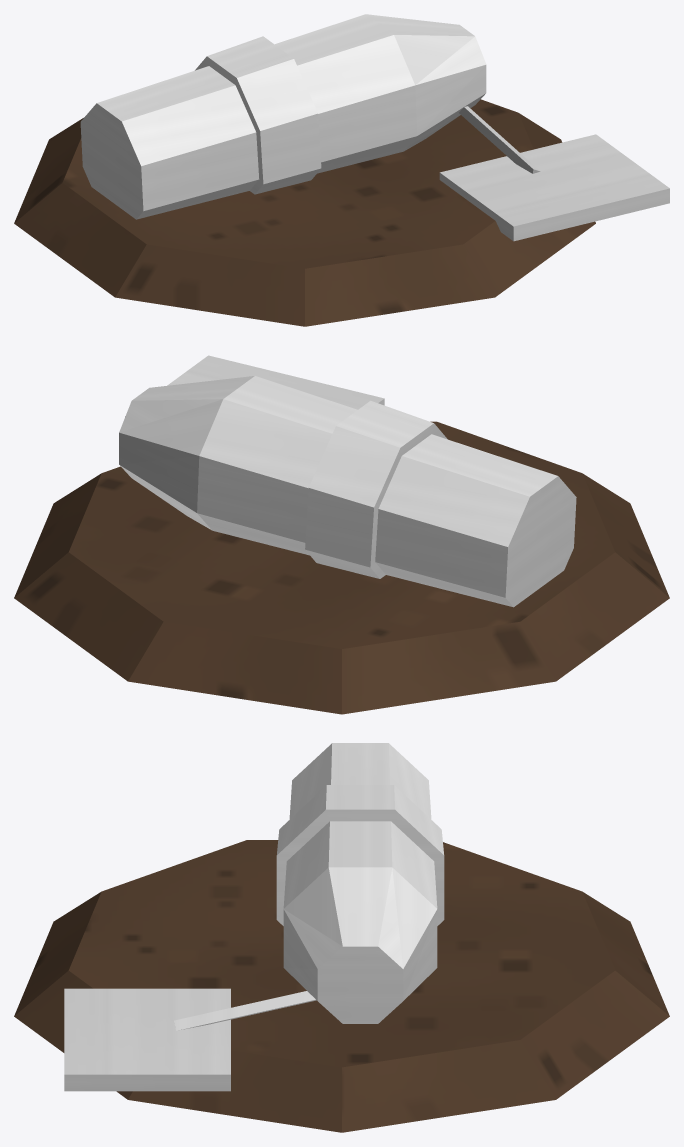
Rendered from ied_deadlife.obj.
3 views of the same model, one above another, from view 1: azimuth 30°, elevation 25°; view 2: azimuth 150°, elevation 25°; view 3: azimuth 270°, elevation 25° (orthographic). The views are drawn at different scales.
Visible parts, largest first — view 1: source_component_009, source_component_062, source_component_006, source_component_005, source_component_004, source_component_010, source_component_011, source_component_024, source_component_025, source_component_042, source_component_007, source_component_012 (+21 smaller); view 2: source_component_009, source_component_003, source_component_002, source_component_001, source_component_004, source_component_014, source_component_015, source_component_016, source_component_017, source_component_042, source_component_012, source_component_013 (+18 smaller); view 3: source_component_009, source_component_062, source_component_000, source_component_001, source_component_008, source_component_043, source_component_061, source_component_002, source_component_006, source_component_066, source_component_012, source_component_029 (+23 smaller).
Part boxes in pixels (bbox=[...]): source_component_009: bbox=[62, 99, 533, 268]; source_component_062: bbox=[440, 134, 669, 226]; source_component_006: bbox=[305, 244, 494, 326]; source_component_005: bbox=[115, 244, 304, 326]; source_component_004: bbox=[14, 183, 146, 297]; source_component_010: bbox=[142, 35, 414, 165]; source_component_011: bbox=[122, 35, 392, 165]; source_component_024: bbox=[144, 85, 417, 210]; source_component_025: bbox=[141, 86, 413, 210]; source_component_042: bbox=[80, 103, 143, 219]; source_component_007: bbox=[463, 221, 595, 297]; source_component_012: bbox=[123, 14, 393, 120]; source_component_009: bbox=[69, 421, 614, 648]; source_component_003: bbox=[342, 622, 555, 714]; source_component_002: bbox=[128, 622, 341, 714]; source_component_001: bbox=[14, 552, 163, 681]; source_component_004: bbox=[520, 552, 669, 681]; source_component_014: bbox=[199, 399, 528, 496]; source_component_015: bbox=[201, 456, 529, 546]; source_component_016: bbox=[197, 456, 506, 546]; source_component_017: bbox=[198, 513, 507, 597]; source_component_042: bbox=[505, 476, 576, 606]; source_component_012: bbox=[224, 376, 556, 475]; source_component_013: bbox=[226, 399, 557, 496]; source_component_009: bbox=[68, 840, 615, 1067]; source_component_062: bbox=[64, 988, 230, 1074]; source_component_000: bbox=[342, 1040, 555, 1132]; source_component_001: bbox=[520, 970, 669, 1099]; source_component_008: bbox=[128, 1050, 341, 1132]; source_component_043: bbox=[317, 946, 403, 1023]; source_component_061: bbox=[276, 809, 444, 925]; source_component_002: bbox=[582, 892, 669, 1015]; source_component_006: bbox=[14, 892, 101, 1015]; source_component_066: bbox=[64, 1074, 230, 1091]; source_component_012: bbox=[328, 744, 391, 867]; source_component_029: bbox=[329, 867, 392, 946].
Bounding box in the file's own units: 0.6983 × 0.2054 × 0.709.
